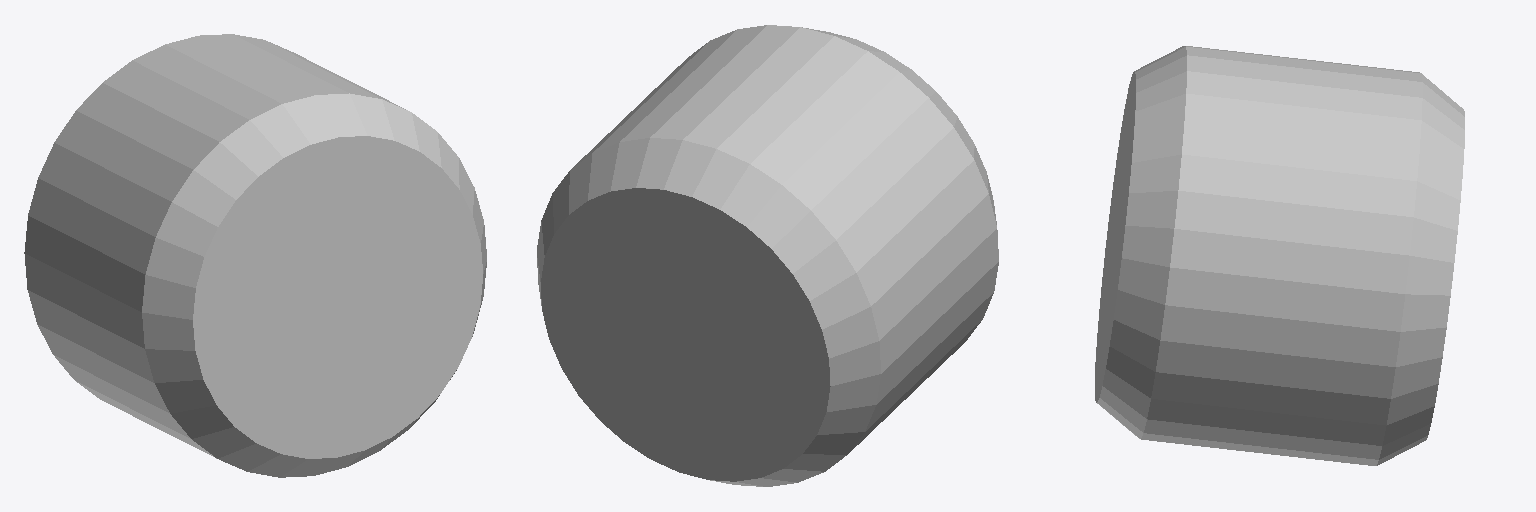
Rendered from Uterus.obj.
The picture shows the model from 3 angles: view 1: azimuth 30°, elevation 25°; view 2: azimuth 150°, elevation 25°; view 3: azimuth 270°, elevation 25°; orthographic projection.
Parts seen in each view (by area): view 1: Uterus_Cylinder.005; view 2: Uterus_Cylinder.005; view 3: Uterus_Cylinder.005.
Part boxes in pixels (bbox=[...]): Uterus_Cylinder.005: bbox=[24, 34, 486, 477]; Uterus_Cylinder.005: bbox=[537, 25, 998, 486]; Uterus_Cylinder.005: bbox=[1095, 46, 1464, 465].
Size of the model in its own units: 1.63 by 1.74 by 1.52.